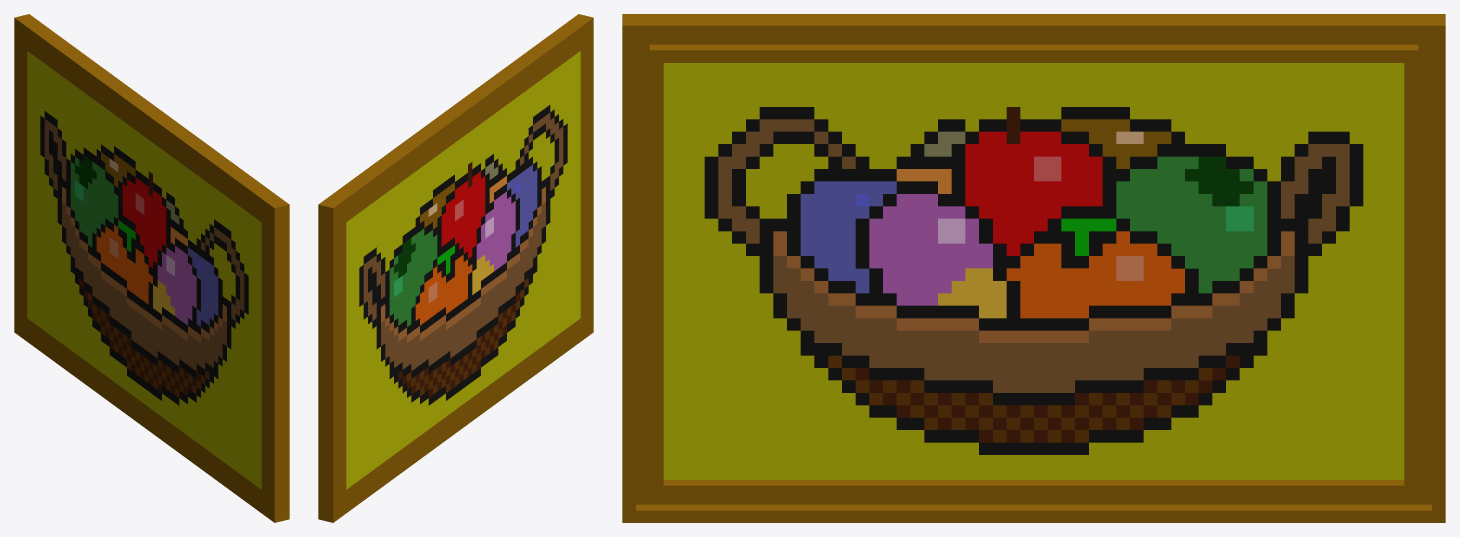
The model's file is Painting-3.obj.
The picture shows the model from 3 angles, left to right: view 1: azimuth 30°, elevation 25°; view 2: azimuth 150°, elevation 25°; view 3: azimuth 270°, elevation 25°; orthographic projection. The views are drawn at different scales.
Visible parts, largest first — view 1: Painting-3; view 2: Painting-3; view 3: Painting-3.
Boxes of the visible parts, x1=… form: Painting-3: x1=14, y1=14, x2=289, y2=522; Painting-3: x1=318, y1=14, x2=593, y2=522; Painting-3: x1=622, y1=14, x2=1445, y2=522.
Bounding box in the file's own units: 2 × 40 × 60.
